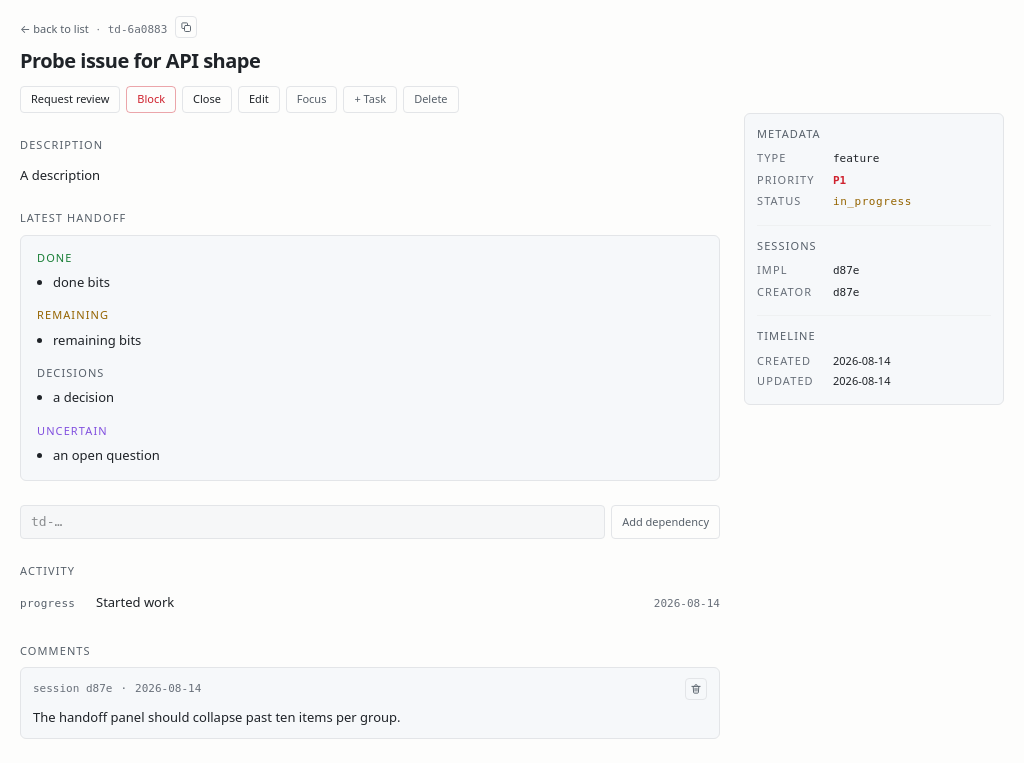
Test: IssueDetail › sets focus and acknowledges the request without claiming to read it
What coordinates should you click on to do the following:
click the button "Focus"
I would click on:
 (312, 99)
Its box is [286,86,337,112].
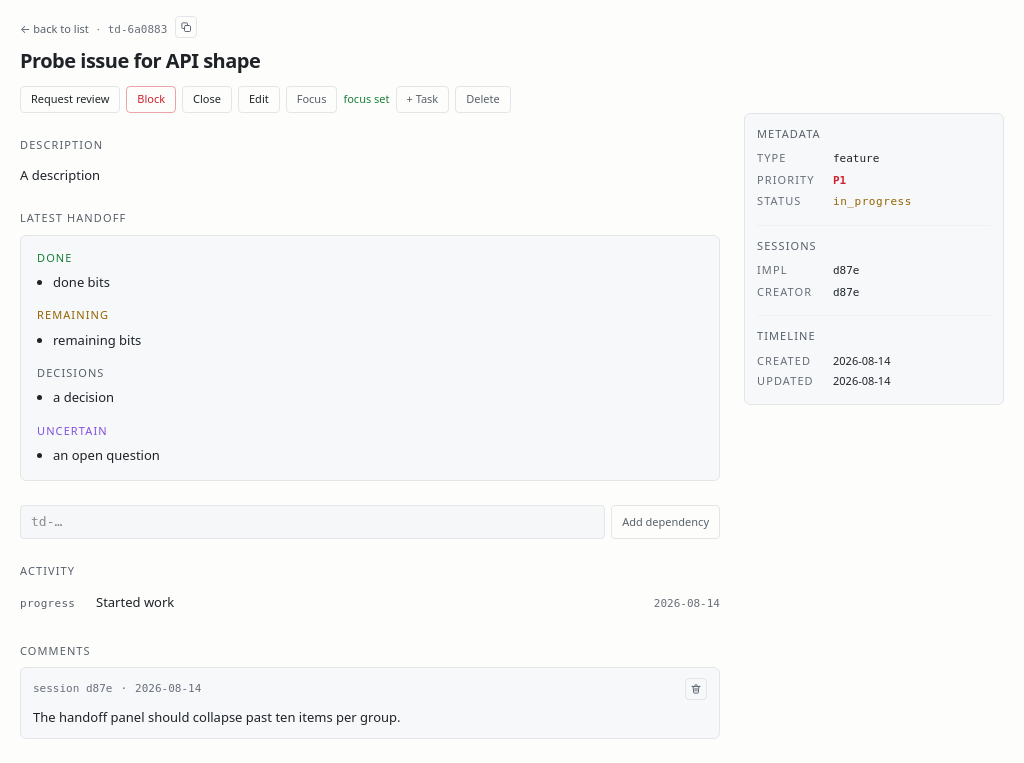
Result: the text "focus set" is shown at [343,91,390,108]
